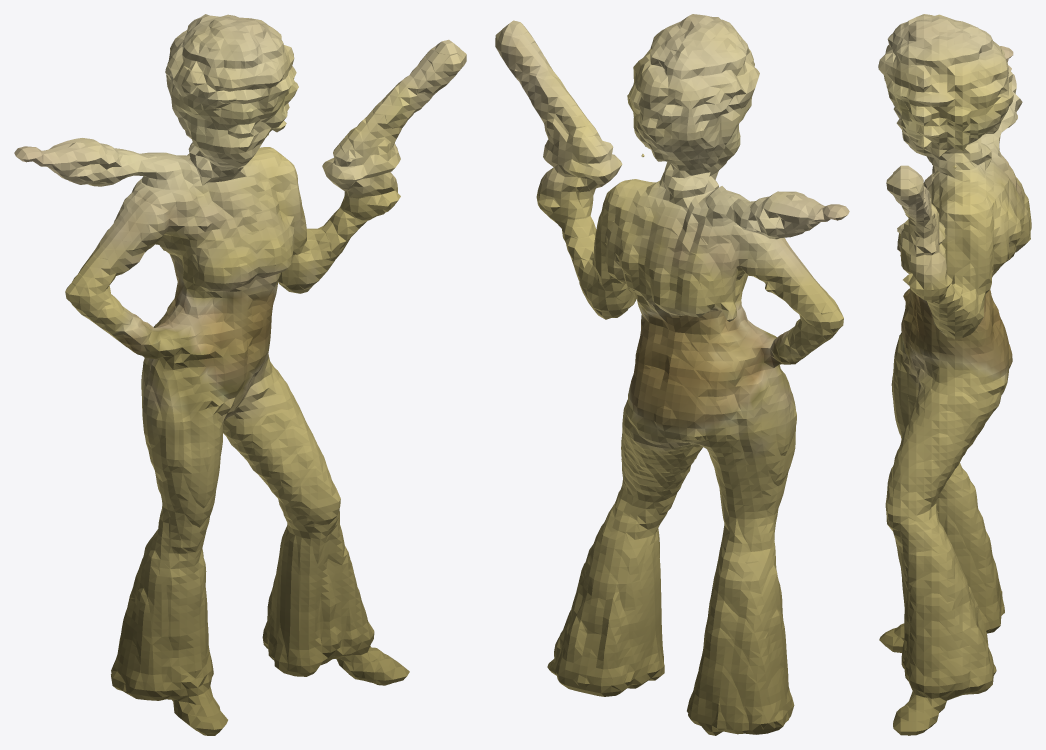
File: custom-character.glb
3 renders of one model, left to right at view 1: azimuth 30°, elevation 25°; view 2: azimuth 150°, elevation 25°; view 3: azimuth 270°, elevation 25°, orthographic. The views are drawn at different scales.
Visible parts, largest first — view 1: geometry_0; view 2: geometry_0; view 3: geometry_0.
Part boxes in pixels (x1,y1,x2,y2): geometry_0: [14, 14, 466, 735]; geometry_0: [495, 14, 849, 735]; geometry_0: [878, 14, 1031, 735].
Bounding box in the file's own units: 0.6106 × 1.02 × 0.2171.
